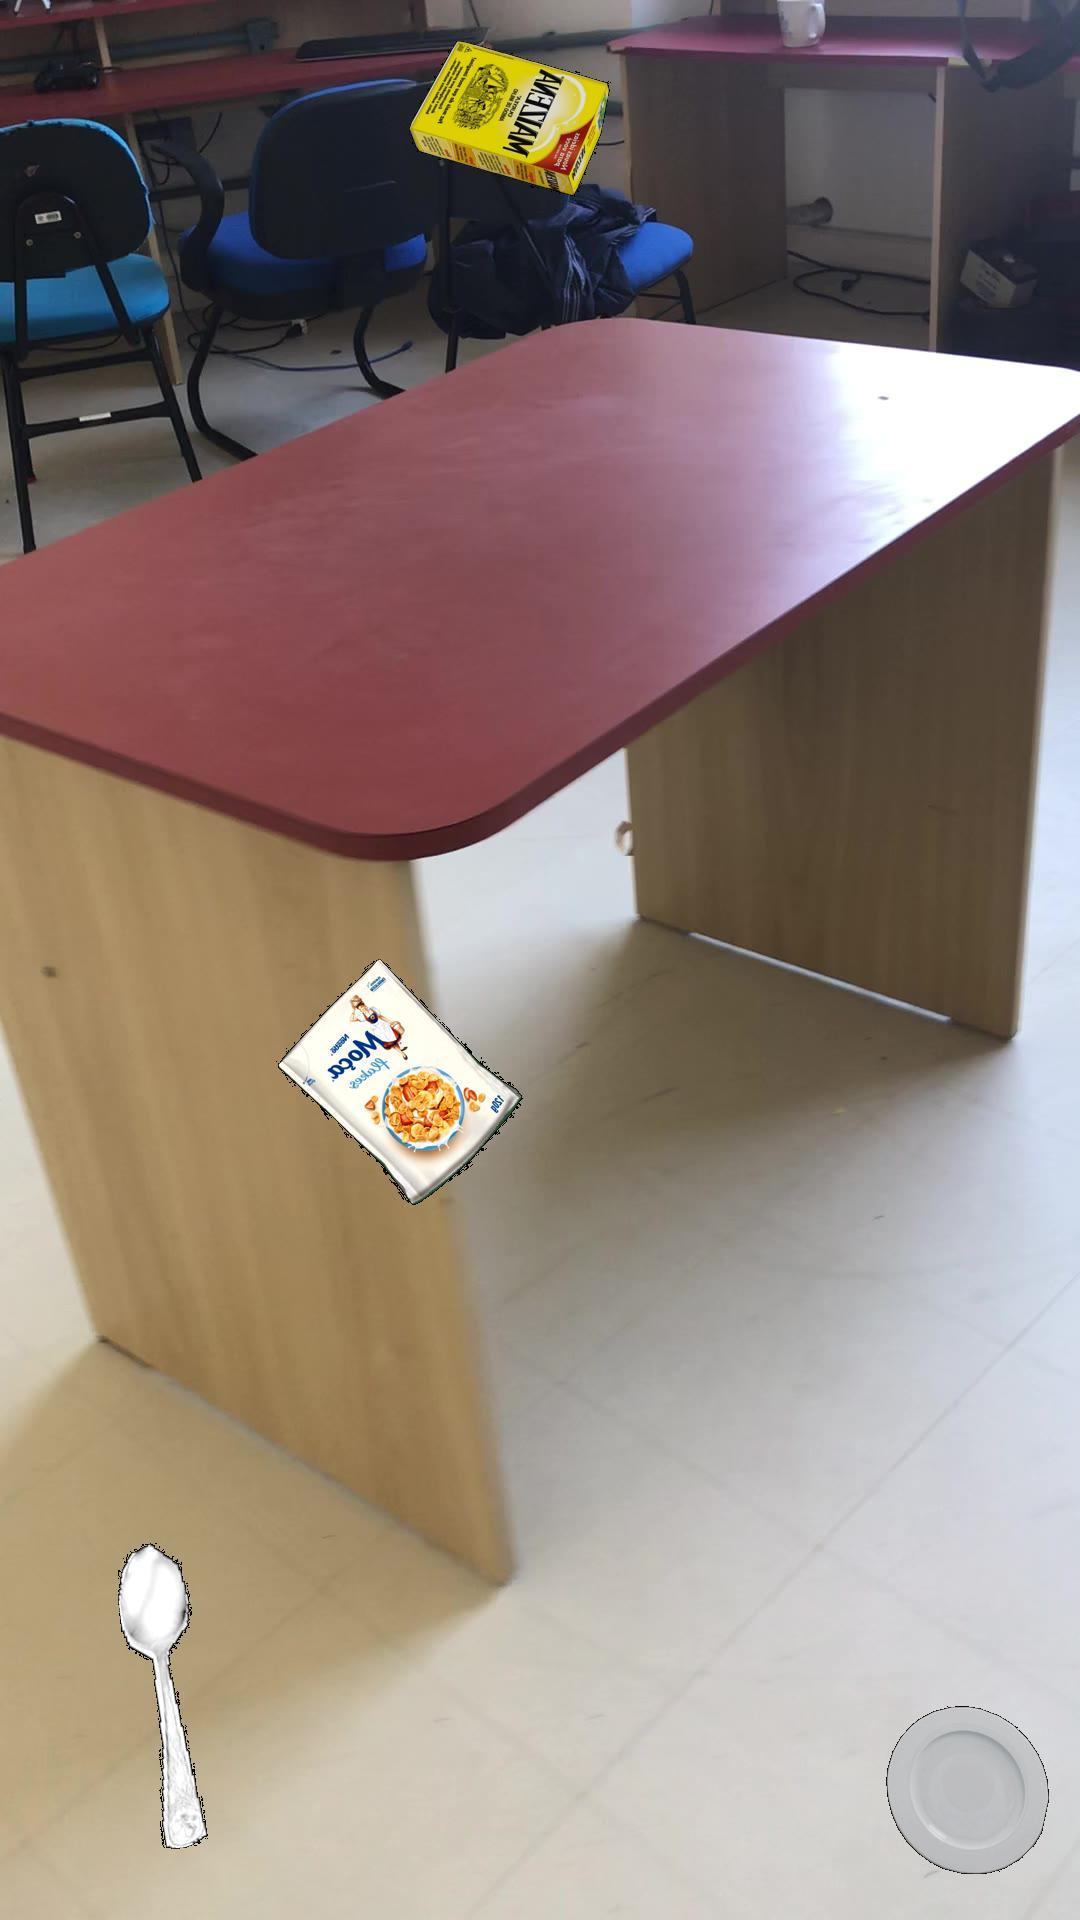corn flakes: (277, 957, 521, 1204)
plate: (885, 1705, 1047, 1873)
spoon: (116, 1542, 207, 1847)
